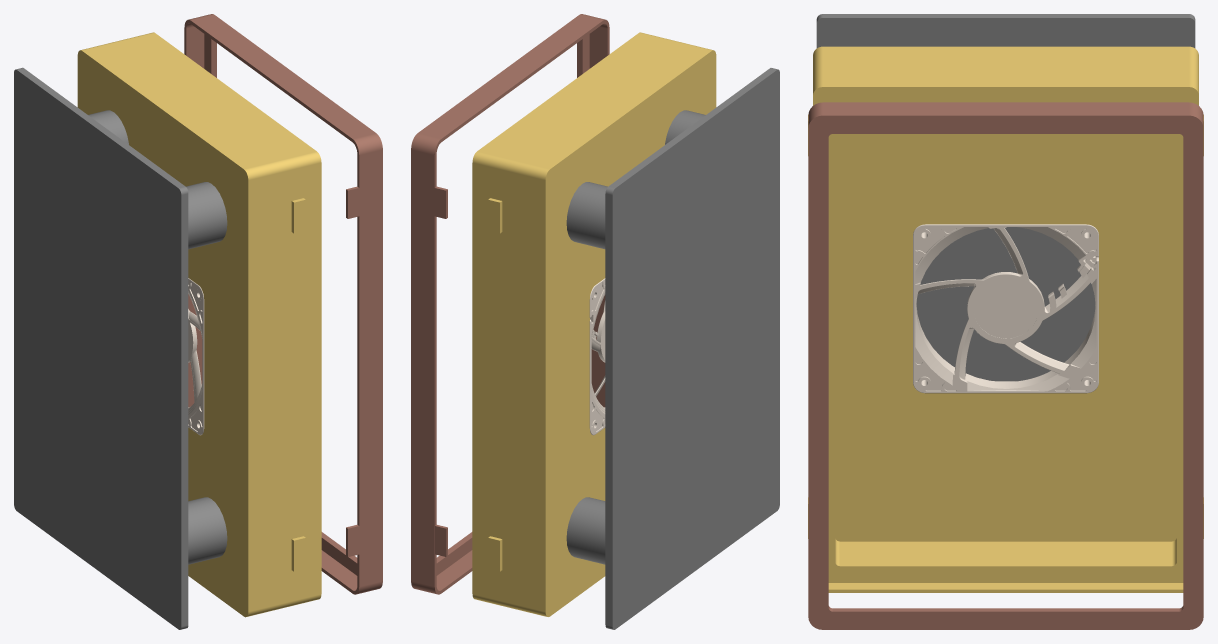
The model's file is razer.glb.
The picture shows the model from 3 angles, left to right: view 1: azimuth 30°, elevation 25°; view 2: azimuth 150°, elevation 25°; view 3: azimuth 270°, elevation 25°; orthographic projection. The views are drawn at different scales.
Visible parts, largest first — view 1: Razer Enclosure.001; view 2: Razer Enclosure.001; view 3: Razer Enclosure.001.
Part boxes in pixels (left/top/right/bottom): Razer Enclosure.001: left=14, top=14, right=382, bottom=629; Razer Enclosure.001: left=411, top=14, right=779, bottom=629; Razer Enclosure.001: left=808, top=14, right=1203, bottom=629.
Size of the model in its own units: 16.66 by 36.58 by 25.52.
